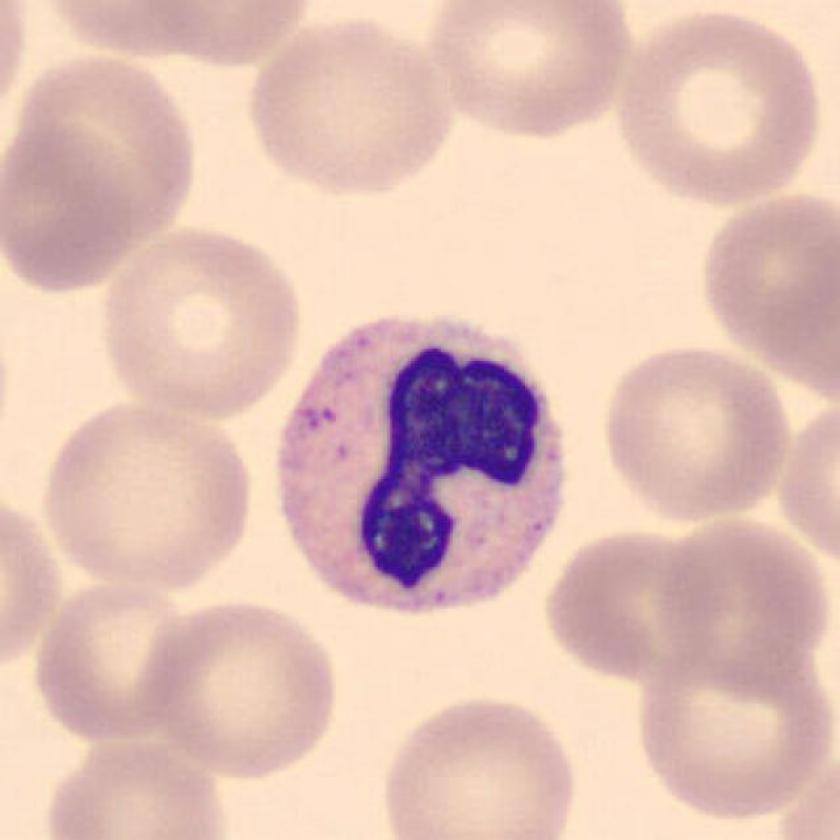neutrophil: (280, 319, 566, 618)
